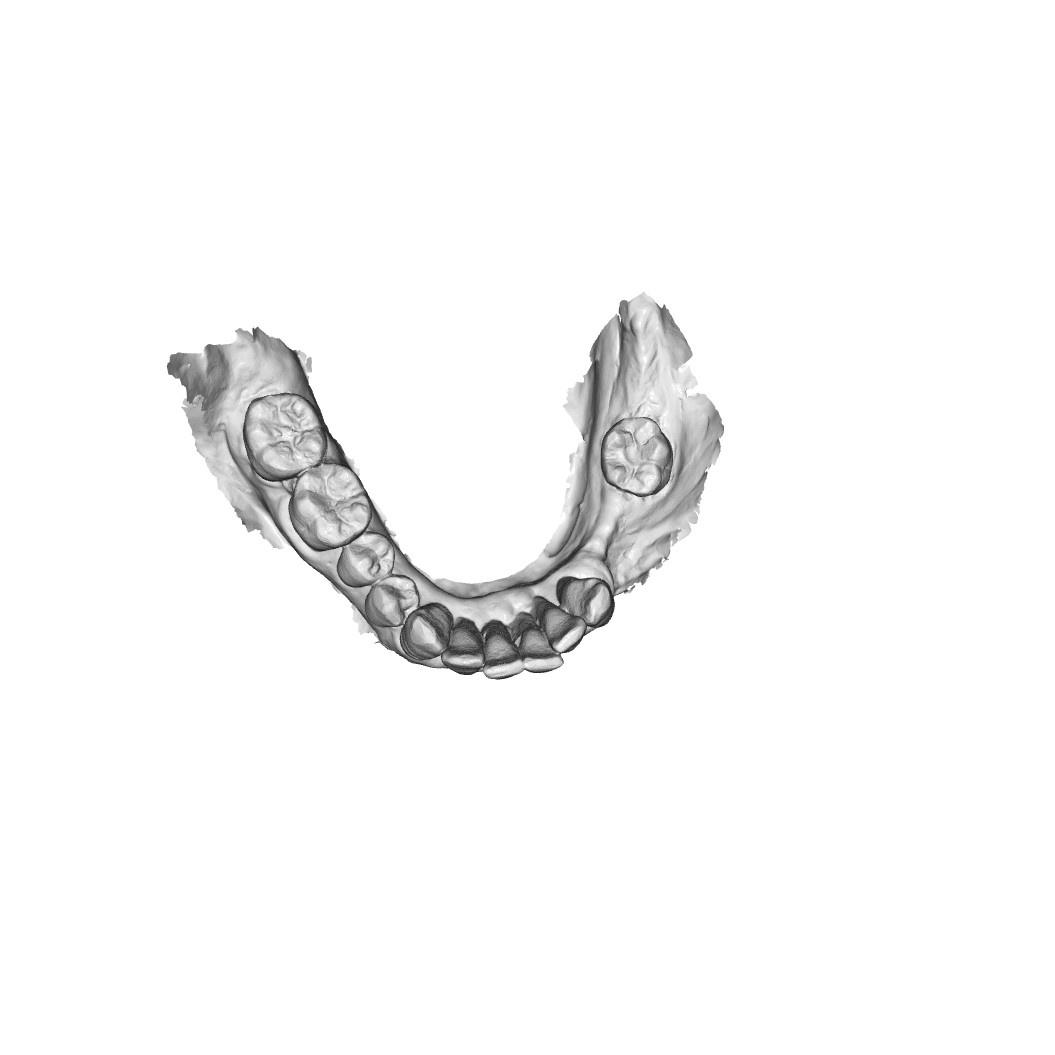canine: (401, 599, 451, 668), (554, 575, 615, 627)
incisor: (442, 613, 488, 677), (521, 618, 563, 677), (485, 627, 527, 685), (545, 600, 587, 654)
molar: (287, 461, 376, 553), (244, 390, 327, 486), (601, 413, 673, 498)
premolar: (337, 529, 398, 590), (365, 571, 419, 631)
